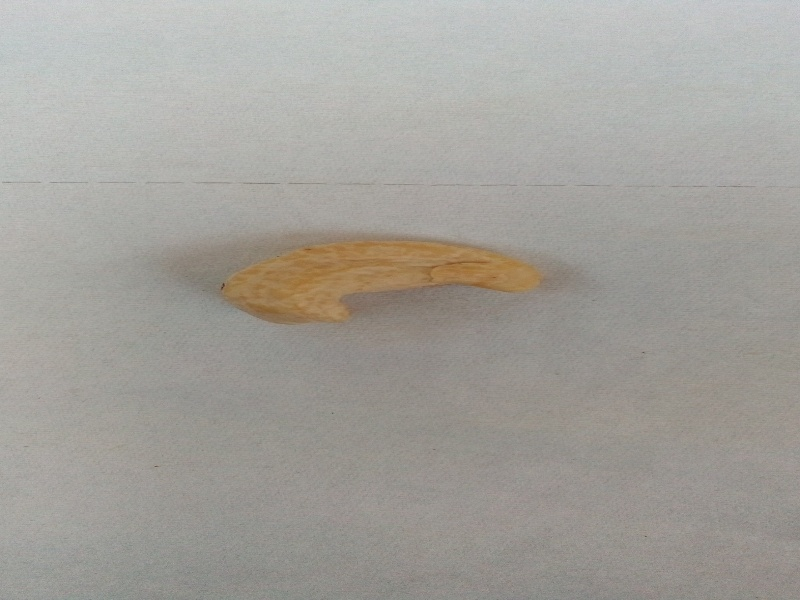cashew: (200, 201, 579, 360)
